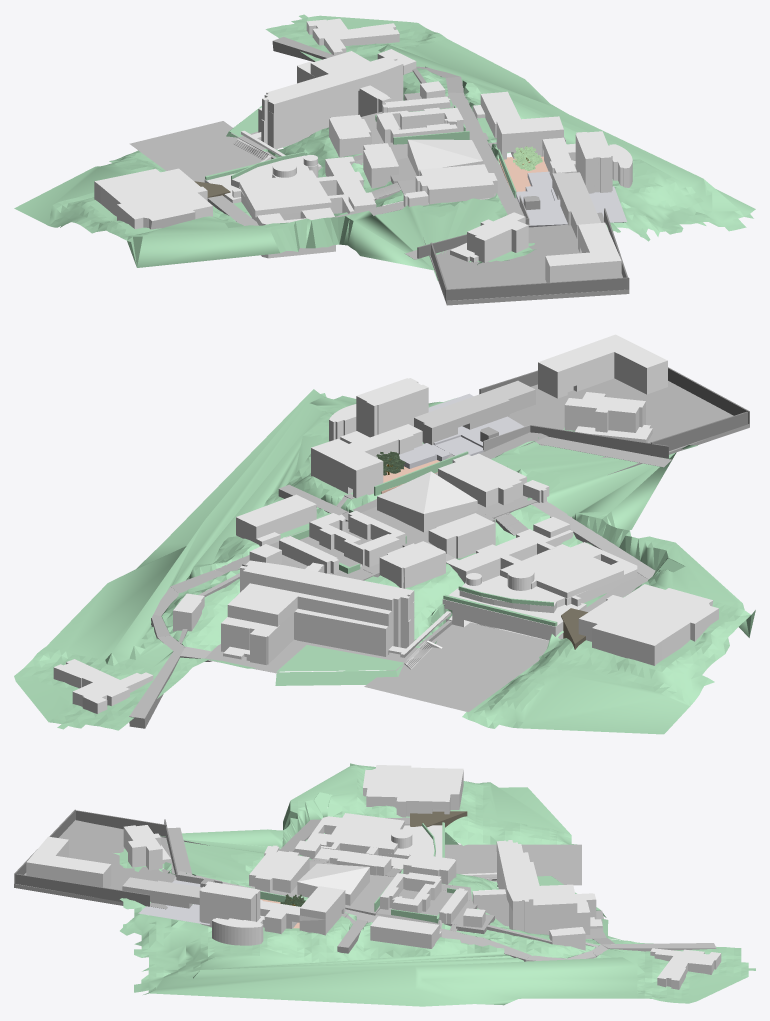
The model's file is wholemap.glb.
3 renders of one model, top to bottom at view 1: azimuth 30°, elevation 25°; view 2: azimuth 150°, elevation 25°; view 3: azimuth 270°, elevation 25°, orthographic. The views are drawn at different scales.
Visible parts, largest first — view 1: object, 10号館, 9号館, 総合体育館, 駐車場, 1号館, 4号館, 5号館, 図書館別館, 6号館, 国際交流会館, 第1体育館 (+9 smaller); view 2: object, 10号館, 9号館, 駐車場, 総合体育館, 1号館, 4号館, 第1体育館, 2号館, 6号館, 図書館別館, 3号館 (+10 smaller); view 3: object, 10号館, 総合体育館, 9号館, 駐車場, 4号館, 1号館, 3号館, 5号館, 第1体育館, 6号館, 国際交流会館 (+10 smaller).
Boxes of the visible parts, x1=… form: object: x1=14, y1=14, x2=755, y2=305; 10号館: x1=241, y1=51, x2=403, y2=162; 9号館: x1=204, y1=155, x2=335, y2=258; 総合体育館: x1=94, y1=168, x2=212, y2=229; 駐車場: x1=129, y1=121, x2=262, y2=182; 1号館: x1=545, y1=222, x2=621, y2=282; 4号館: x1=496, y1=116, x2=576, y2=179; 5号館: x1=415, y1=164, x2=497, y2=204; 図書館別館: x1=450, y1=212, x2=528, y2=262; 6号館: x1=376, y1=107, x2=463, y2=143; 国際交流会館: x1=306, y1=18, x2=399, y2=55; 第1体育館: x1=407, y1=139, x2=483, y2=175; object: x1=14, y1=367, x2=755, y2=734; 10号館: x1=221, y1=560, x2=451, y2=664; 9号館: x1=442, y1=542, x2=637, y2=640; 駐車場: x1=364, y1=622, x2=549, y2=712; 総合体育館: x1=578, y1=584, x2=718, y2=665; 1号館: x1=538, y1=334, x2=667, y2=398; 4号館: x1=311, y1=424, x2=422, y2=498; 第1体育館: x1=377, y1=471, x2=477, y2=532; 2号館: x1=414, y1=380, x2=535, y2=444; 6号館: x1=309, y1=510, x2=405, y2=567; 図書館別館: x1=564, y1=392, x2=652, y2=442; 3号館: x1=356, y1=378, x2=428, y2=437; object: x1=14, y1=763, x2=755, y2=1006; 10号館: x1=460, y1=840, x2=602, y2=934; 総合体育館: x1=363, y1=765, x2=463, y2=817; 9号館: x1=306, y1=813, x2=442, y2=858; 駐車場: x1=445, y1=844, x2=581, y2=885; 4号館: x1=256, y1=886, x2=345, y2=935; 1号館: x1=26, y1=836, x2=111, y2=888; 3号館: x1=199, y1=881, x2=260, y2=927; 5号館: x1=249, y1=850, x2=309, y2=893; 第1体育館: x1=297, y1=863, x2=369, y2=905; 6号館: x1=380, y1=872, x2=441, y2=913; 国際交流会館: x1=650, y1=948, x2=721, y2=989.
Bounding box in the file's own units: 250 × 41.94 × 342.
